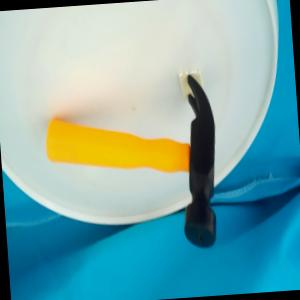martelo: (40, 74, 222, 258)
